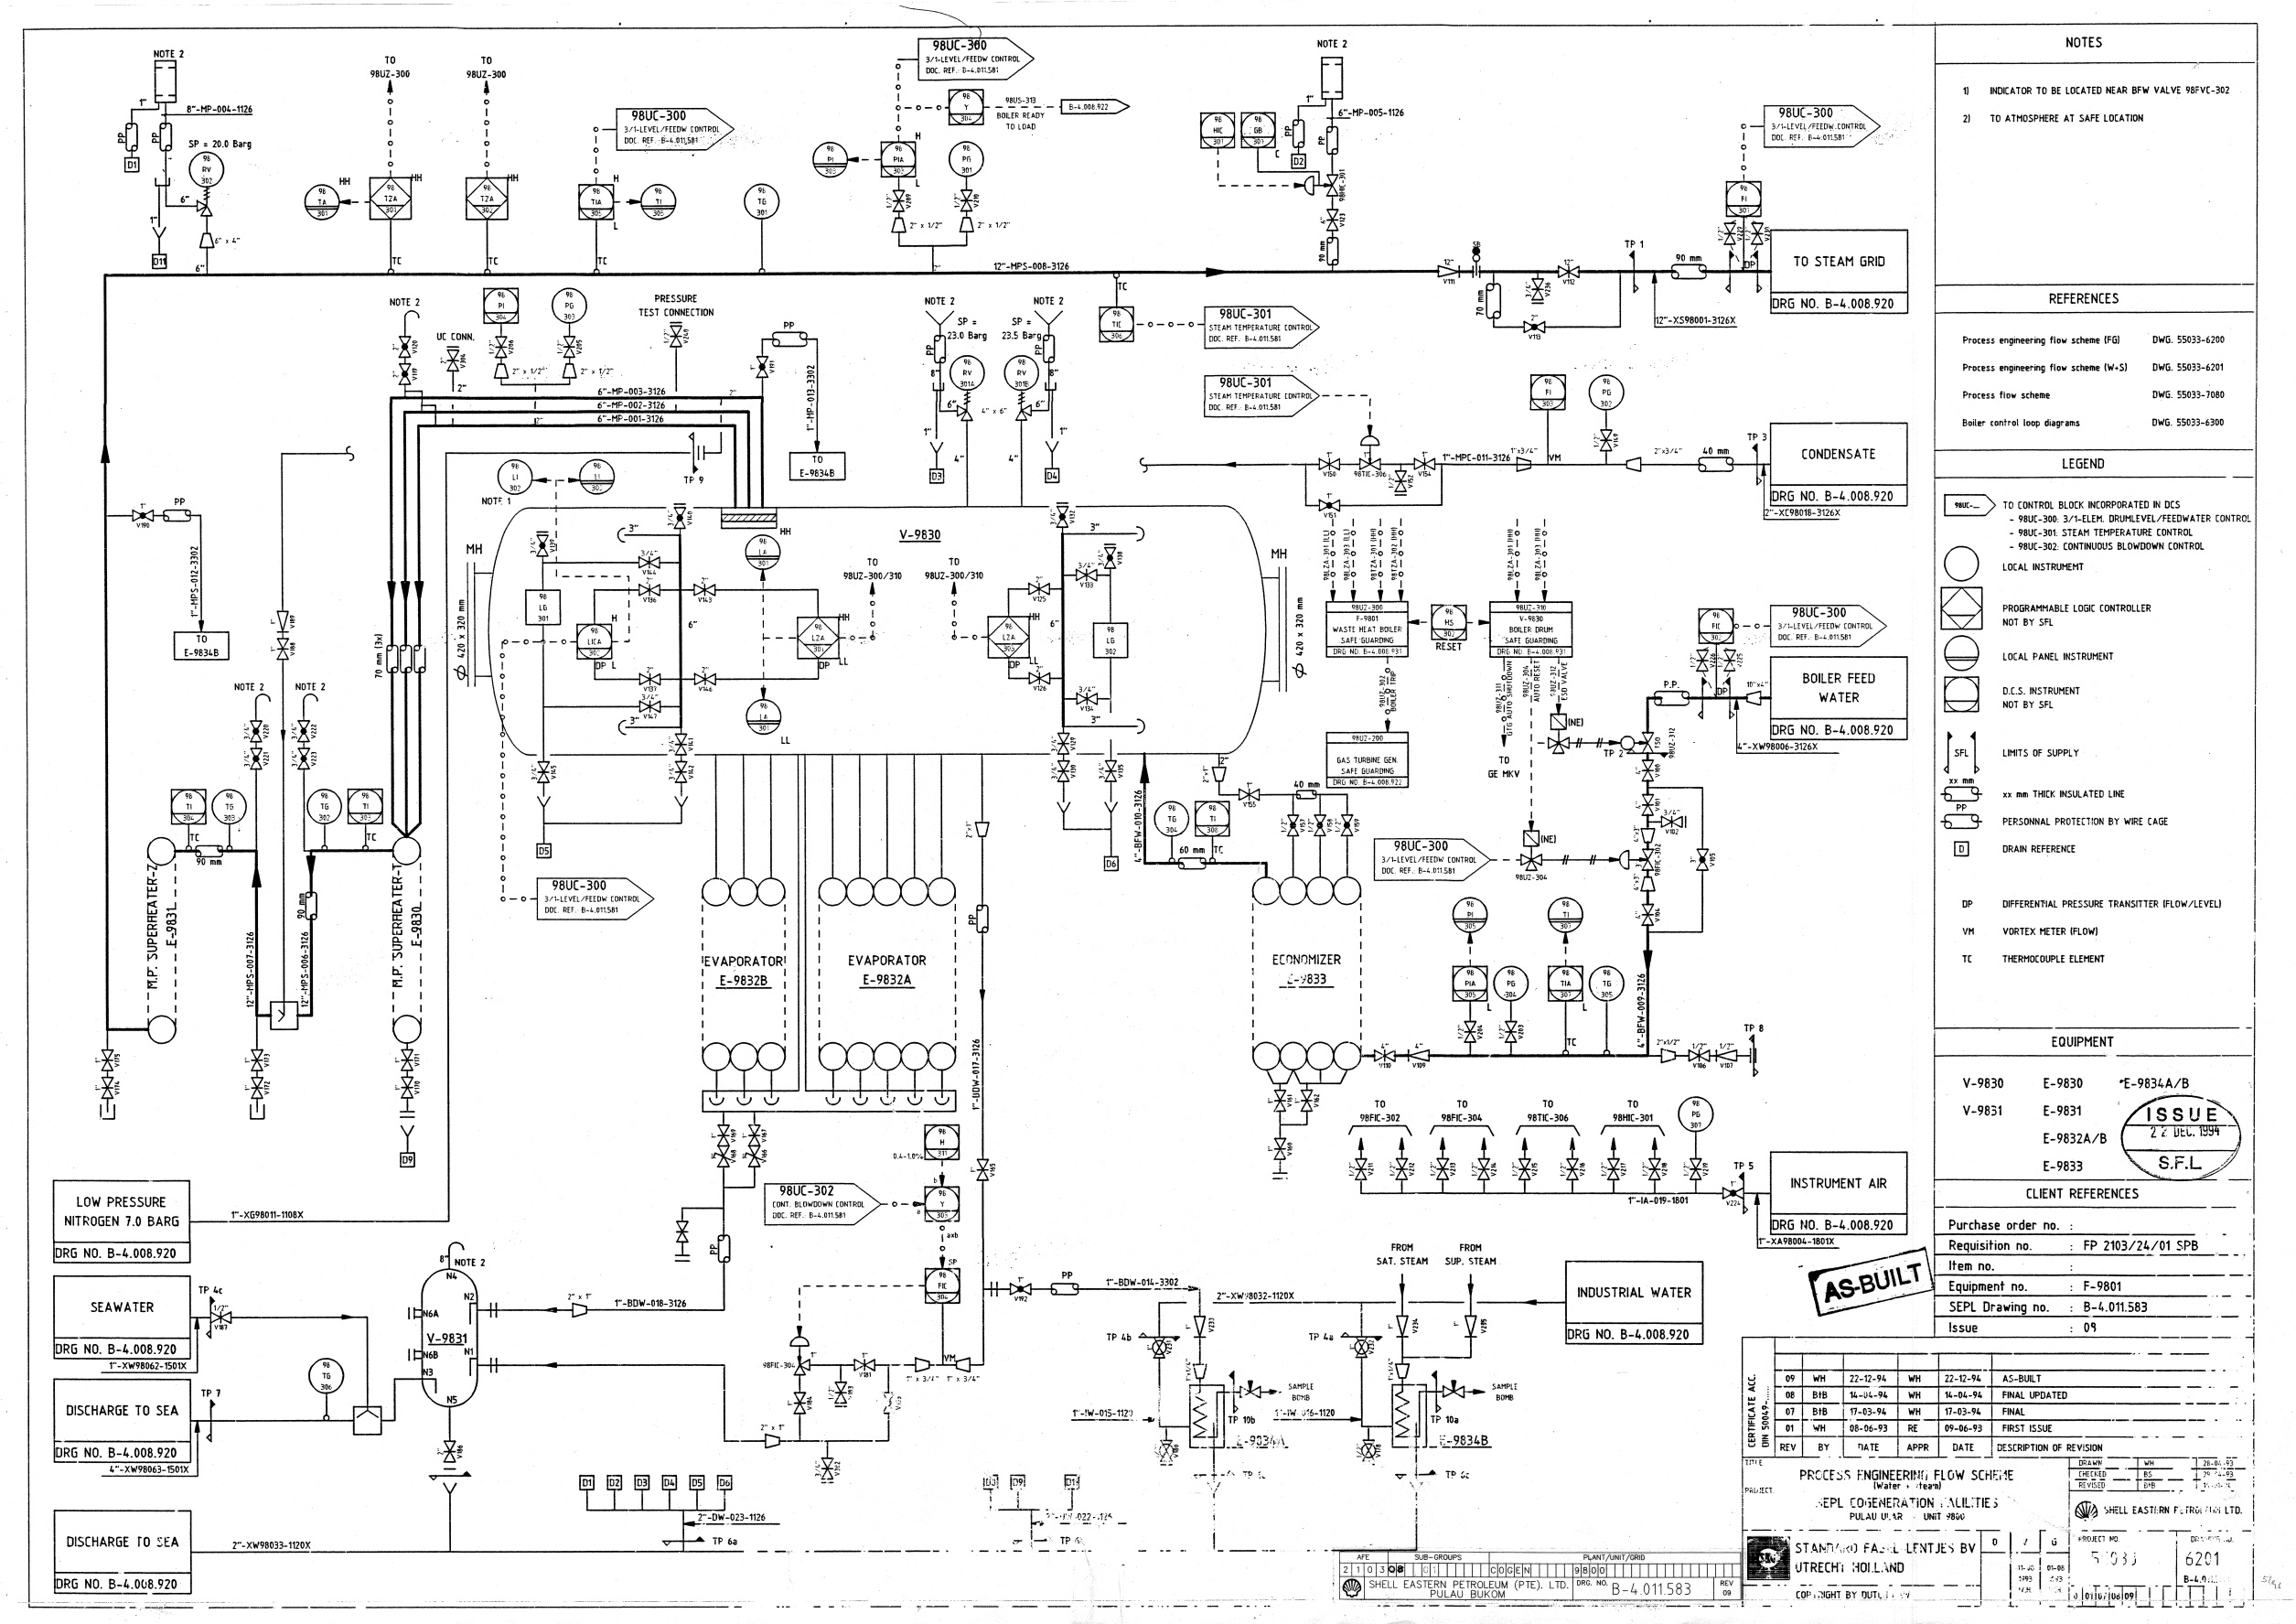Inline Instrument: (548, 285, 588, 323), (947, 139, 987, 178), (947, 353, 987, 392), (1001, 353, 1042, 392), (304, 787, 344, 826), (209, 787, 249, 826), (186, 149, 227, 188), (495, 459, 536, 497), (307, 1355, 348, 1394), (1491, 963, 1532, 1002), (1588, 963, 1628, 1002), (1586, 373, 1627, 411), (1152, 800, 1191, 838), (743, 183, 783, 220), (1676, 1095, 1716, 1132)
